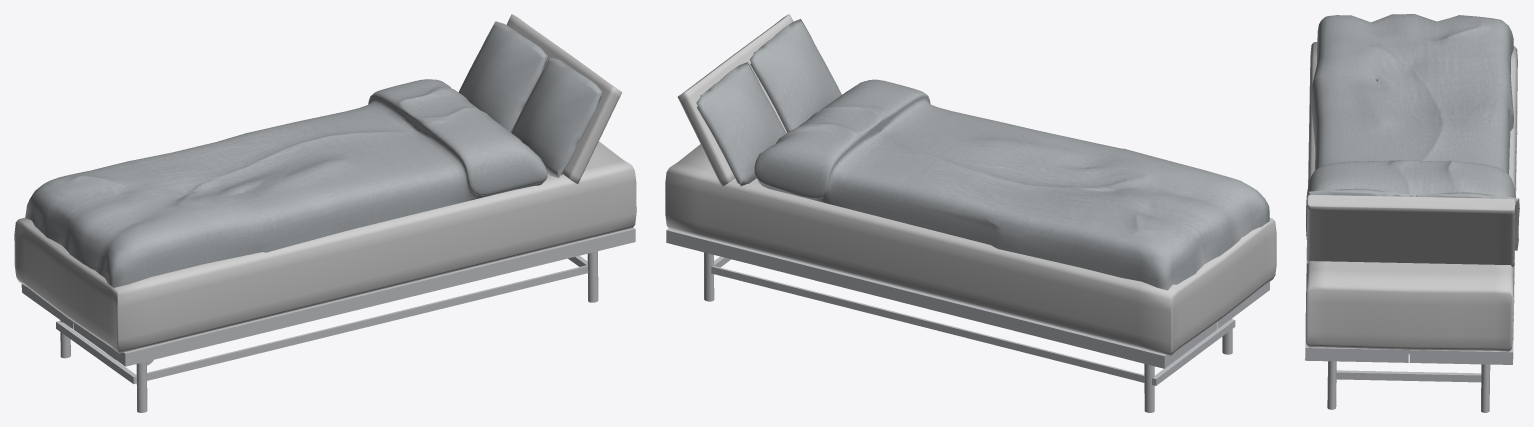
File: IKEA-Beddinge-Sofa-bed-frame-3d.FBX
3 views of the same model, side by side, from view 1: azimuth 30°, elevation 25°; view 2: azimuth 150°, elevation 25°; view 3: azimuth 270°, elevation 25° (orthographic).
Parts seen in each view (by area): view 1: Box02; view 2: Box02; view 3: Box02.
Part boxes in pixels (x1,y1,x2,y2): Box02: [14, 14, 636, 412]; Box02: [665, 14, 1276, 412]; Box02: [1305, 14, 1519, 412].
Size of the model in its own units: 1.65 by 0.5996 by 0.6831.
